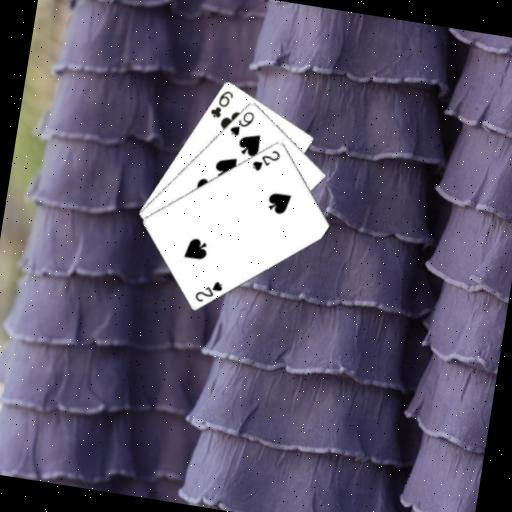2S: (248, 144, 282, 176), (191, 274, 225, 306)
6C: (206, 85, 235, 121)
9S: (226, 105, 257, 139)
